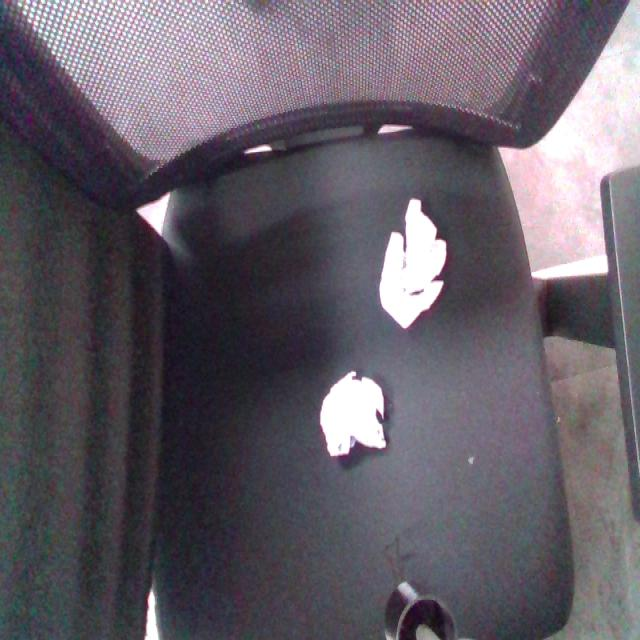paper: (339, 188, 477, 347), (279, 349, 411, 484)
